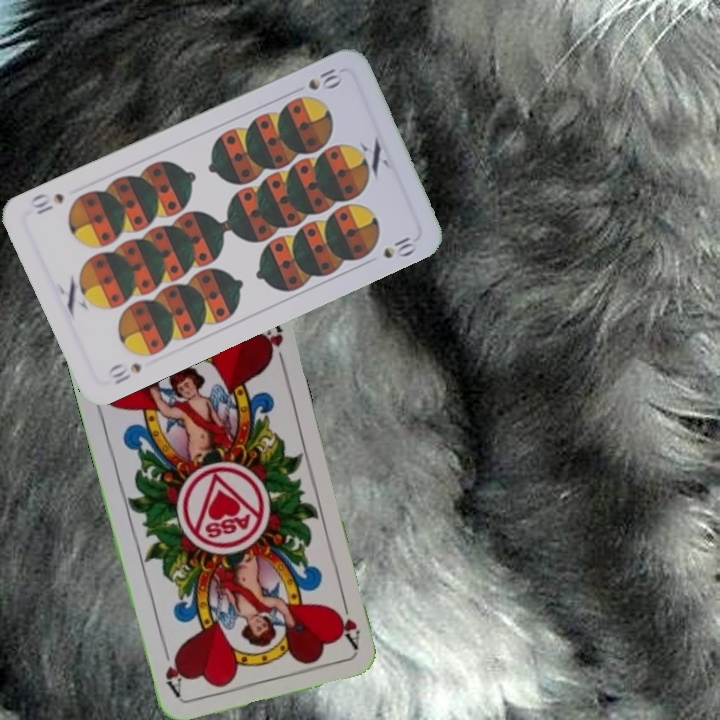HA: (330, 592, 363, 651)
S10: (304, 62, 345, 93), (104, 358, 144, 387)
